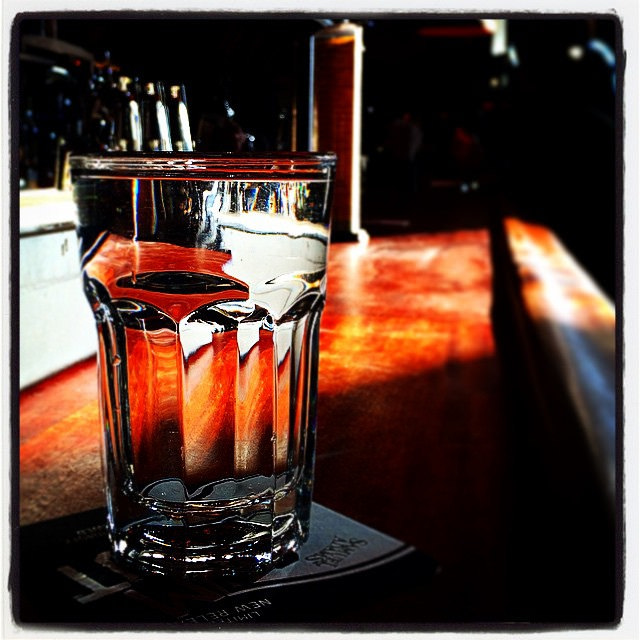glass of water: (61, 136, 338, 593)
